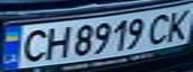1: (109, 17, 133, 52)
8: (72, 21, 96, 57)
9: (124, 15, 151, 48), (90, 20, 115, 55)
C: (12, 27, 51, 63), (145, 11, 175, 45)
H: (39, 24, 72, 60)
K: (160, 7, 193, 42)
